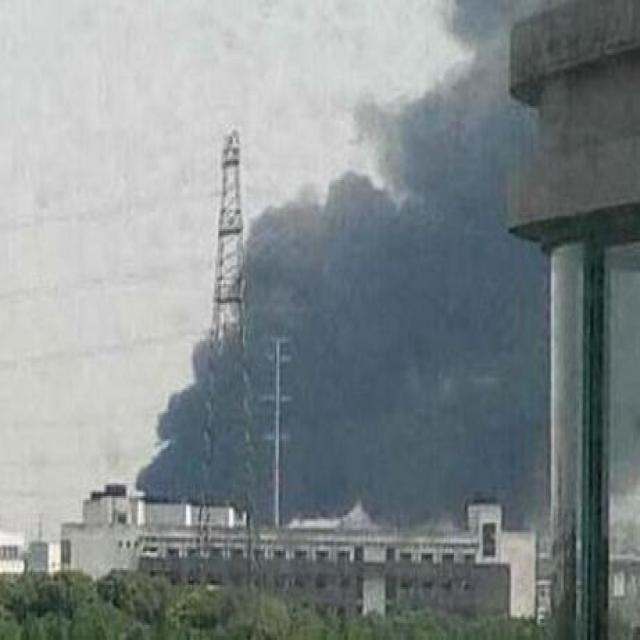Smoke: (133, 0, 554, 498), (615, 260, 640, 476)
